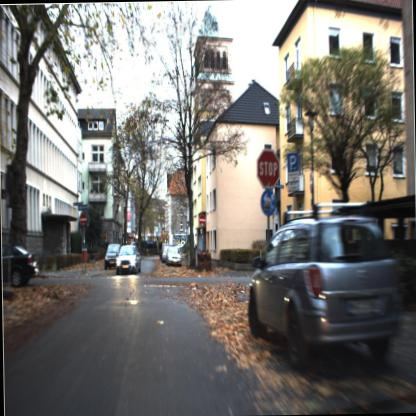mandatory: (256, 188, 282, 220)
other: (254, 142, 281, 192), (74, 208, 90, 232), (193, 208, 208, 230)
